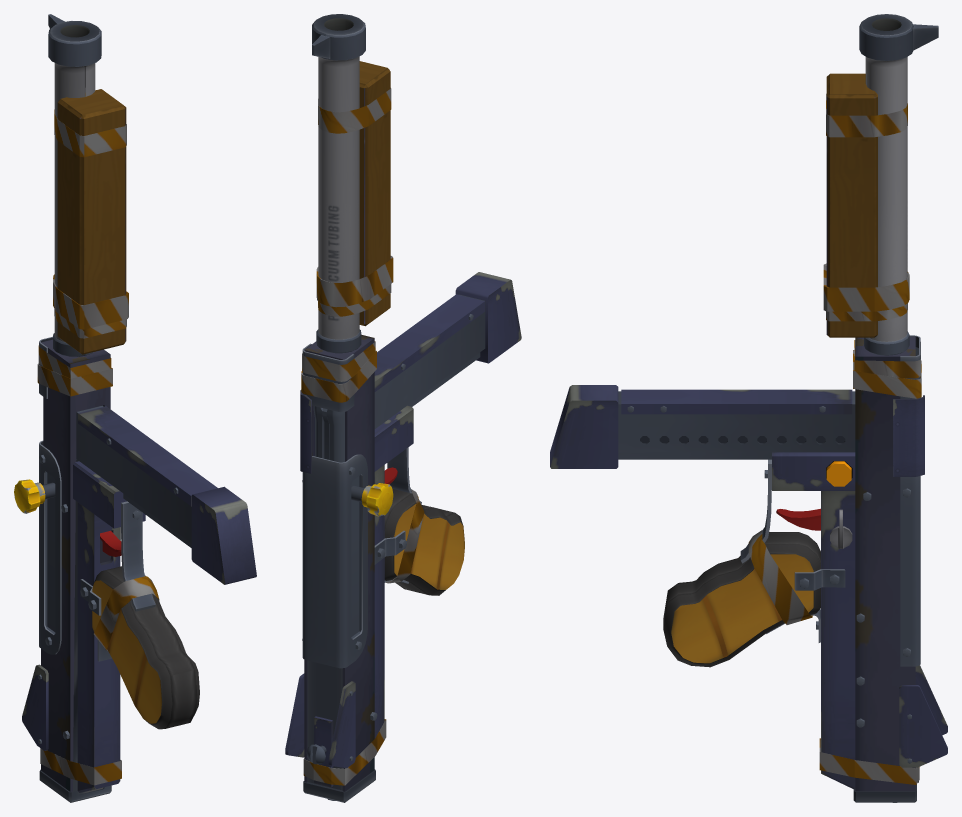
Rendered from TommyGunPreview.fbx.
The picture shows the model from 3 angles, left to right: view 1: azimuth 30°, elevation 25°; view 2: azimuth 150°, elevation 25°; view 3: azimuth 270°, elevation 25°; orthographic projection.
Parts seen in each view (by area): view 1: Cube; view 2: Cube; view 3: Cube.
Boxes of the visible parts, x1,y1,x2,y2 form: Cube: (14, 14, 256, 802); Cube: (285, 14, 521, 802); Cube: (550, 14, 947, 802).
Bounding box in the file's own units: 0.3868 × 3.69 × 1.72.
